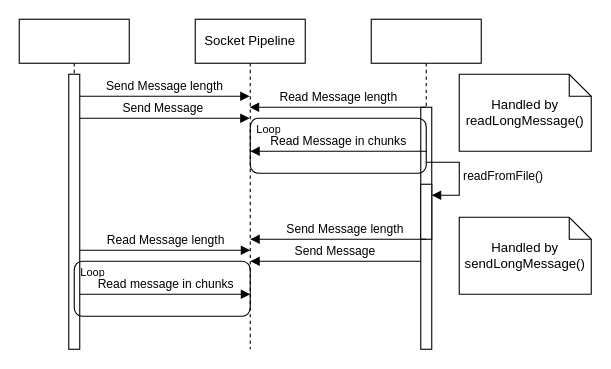
Image size: 611x369. Some labels were removed from this diagram. The shapes that lost their labels are listed below. From the top down, each one's box as (x1, y1, x2, y2) in pixels, then its label:
(18, 18, 129, 349): Program Making a request
(370, 18, 481, 349): File Reading Microservice
